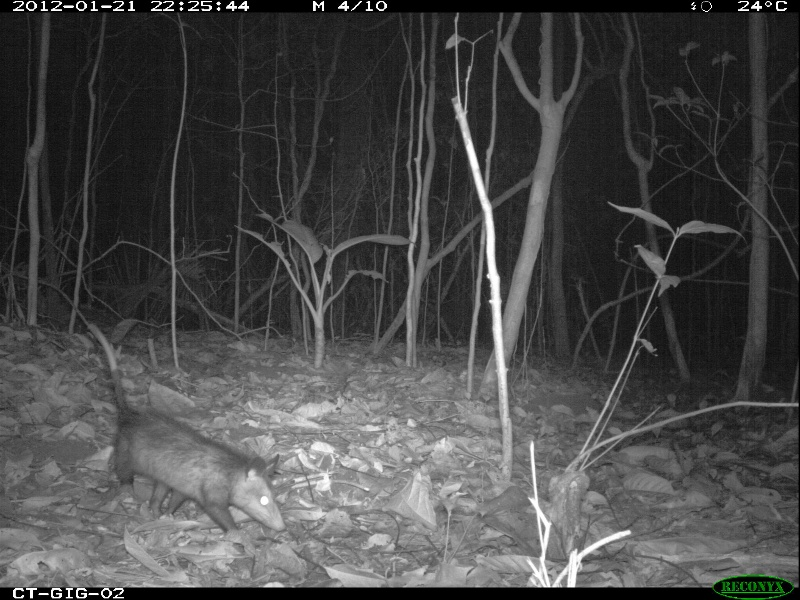opossum: (78, 319, 296, 541)
